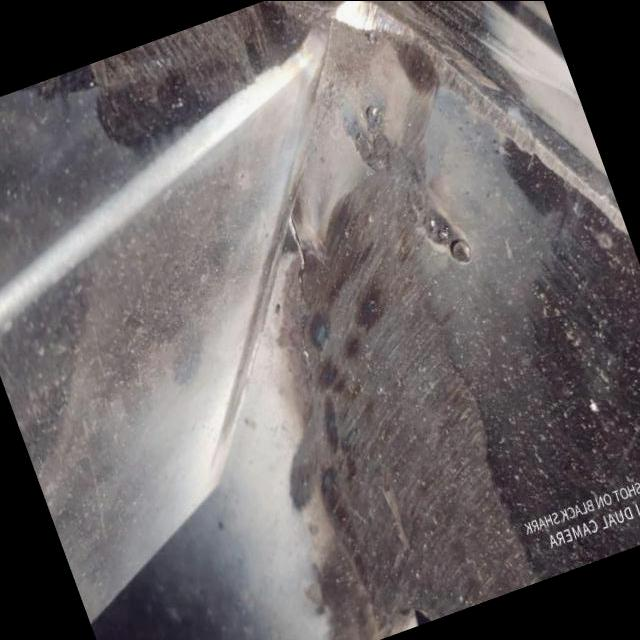defect: (288, 211, 313, 370)
